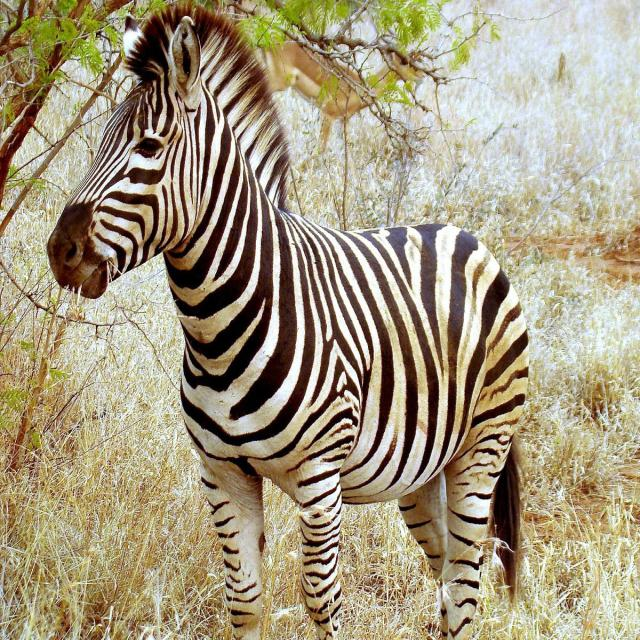Zebra: (44, 4, 535, 640)
